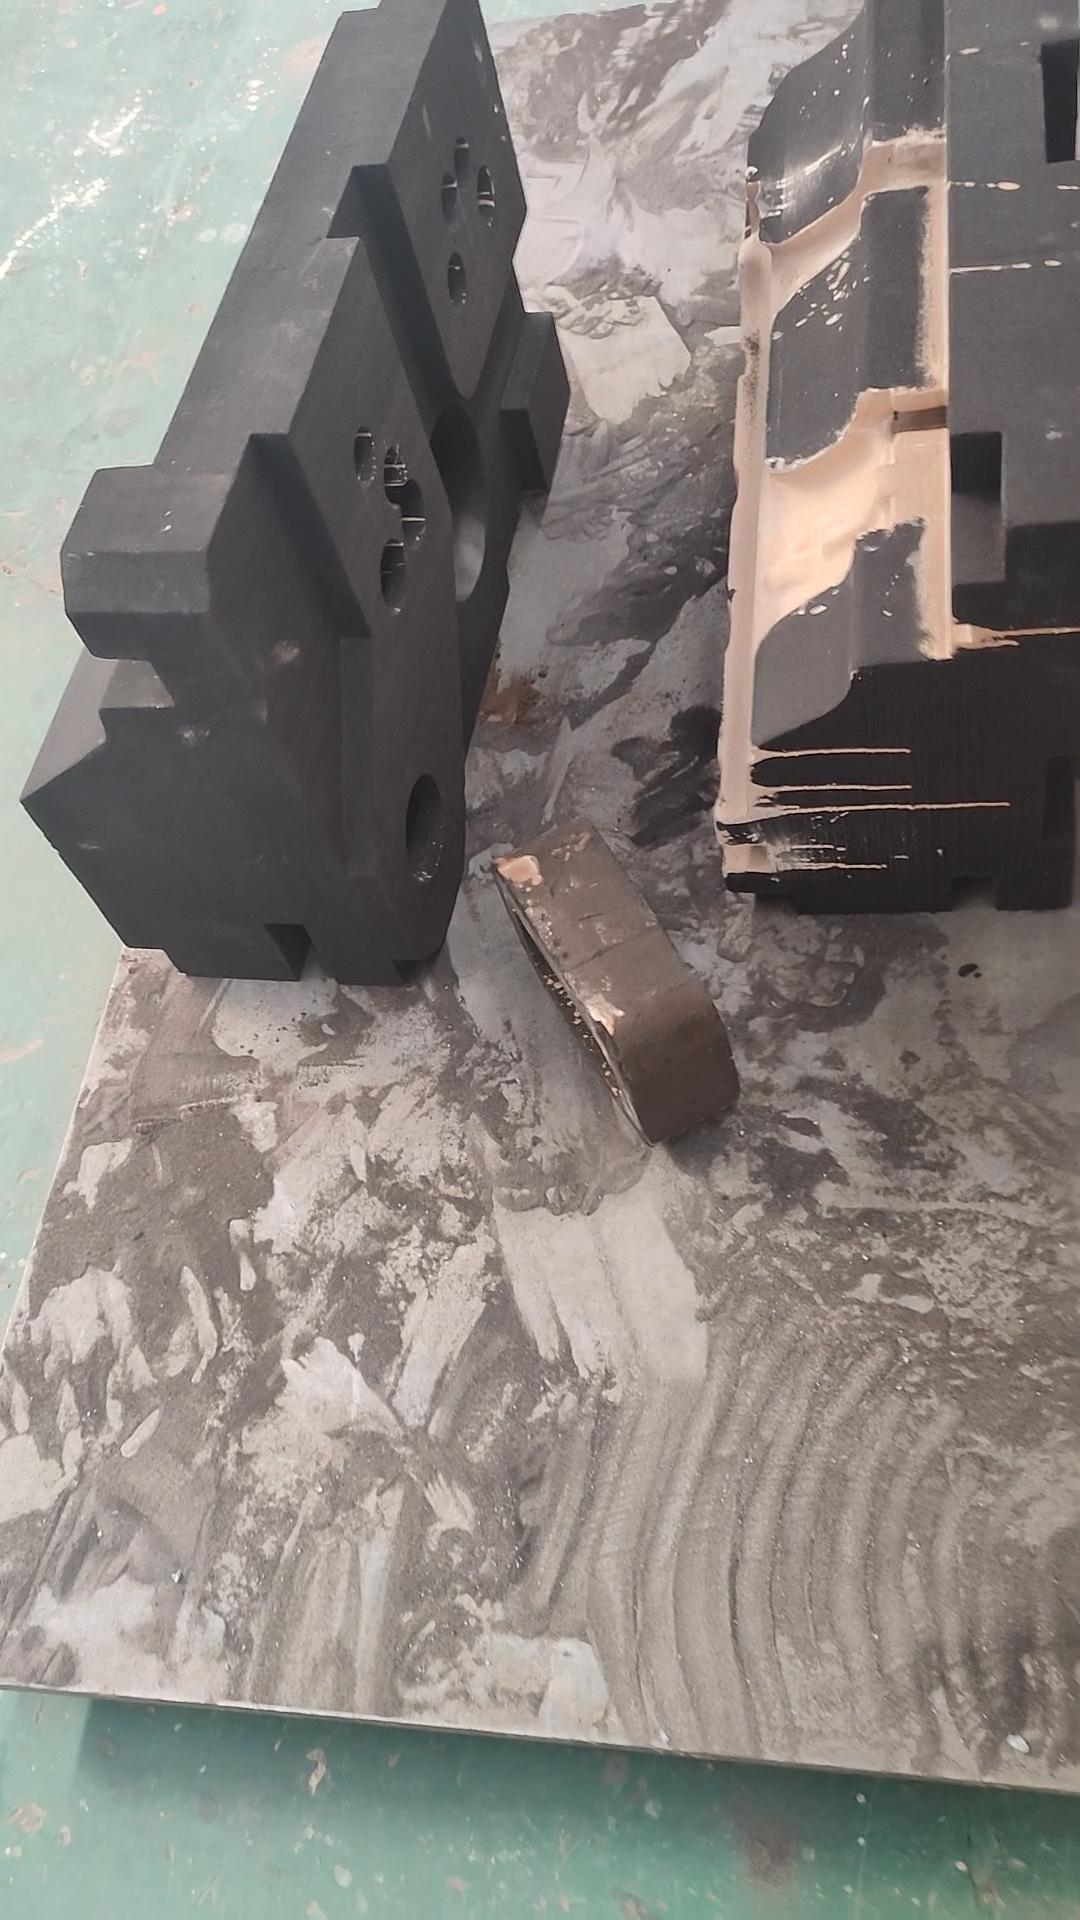pouring hole: (405, 774, 444, 884)
